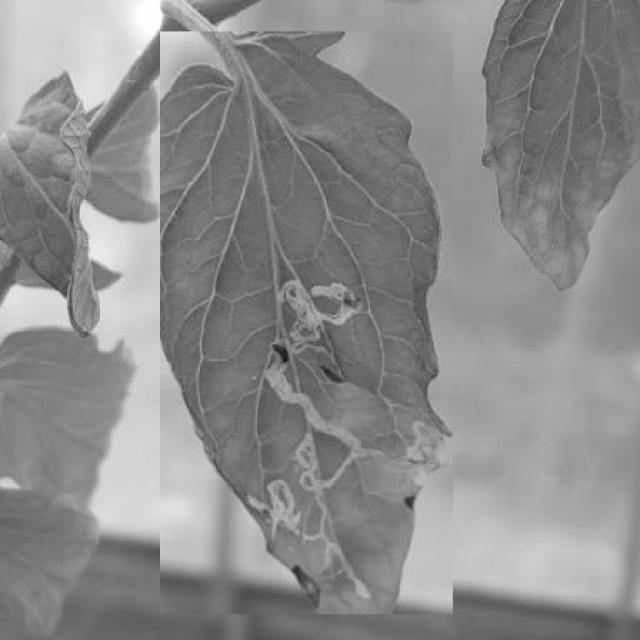Leaf Miner: (160, 31, 453, 614)
